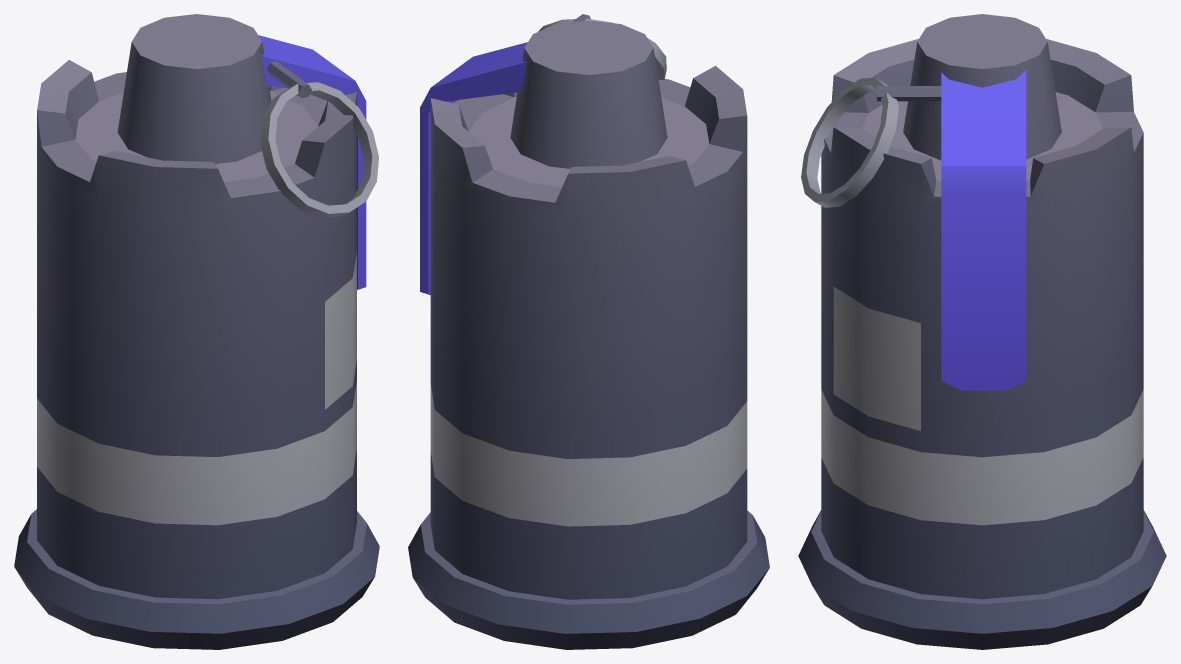
Rendered from Grenade C.fbx.
The picture shows the model from 3 angles, left to right: view 1: azimuth 30°, elevation 25°; view 2: azimuth 150°, elevation 25°; view 3: azimuth 270°, elevation 25°; orthographic projection.
Visible parts, largest first — view 1: Grenade C; view 2: Grenade C; view 3: Grenade C.
Boxes of the visible parts, <box> form: Grenade C: <box>14,14,379,649</box>; Grenade C: <box>408,14,769,649</box>; Grenade C: <box>798,14,1166,649</box>.
Bounding box in the file's own units: 0.1392 × 0.2234 × 0.1392.
